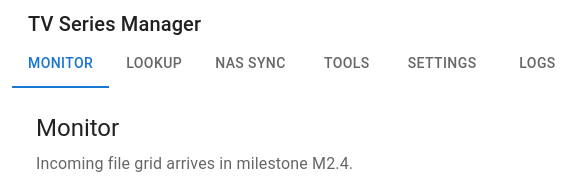
Test: App › tab navigation › clicking the Tools tab renders the Tools page
The image size is (572, 189).
Click the tab "Tools": (347, 64) [302,40,392,88]
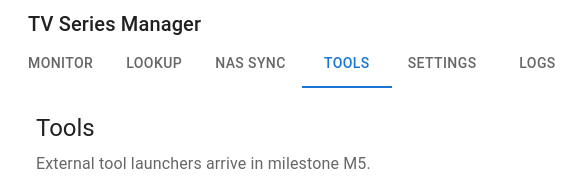
Result: the heading "Tools" is shown at [36,114,95,142]
